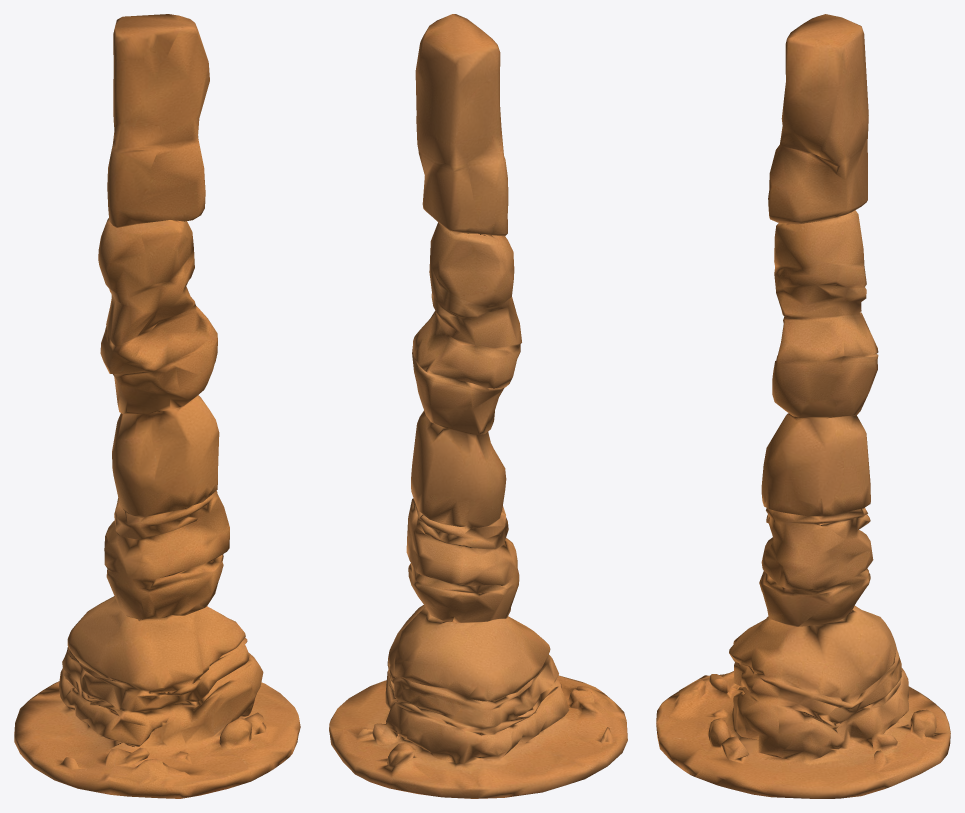
File: pillar.glb
The picture shows the model from 3 angles, left to right: view 1: azimuth 30°, elevation 25°; view 2: azimuth 150°, elevation 25°; view 3: azimuth 270°, elevation 25°; orthographic projection.
Size of the model in its own units: 0.7091 by 1.9 by 0.71.
Materials: 1 (1 with a texture image).
